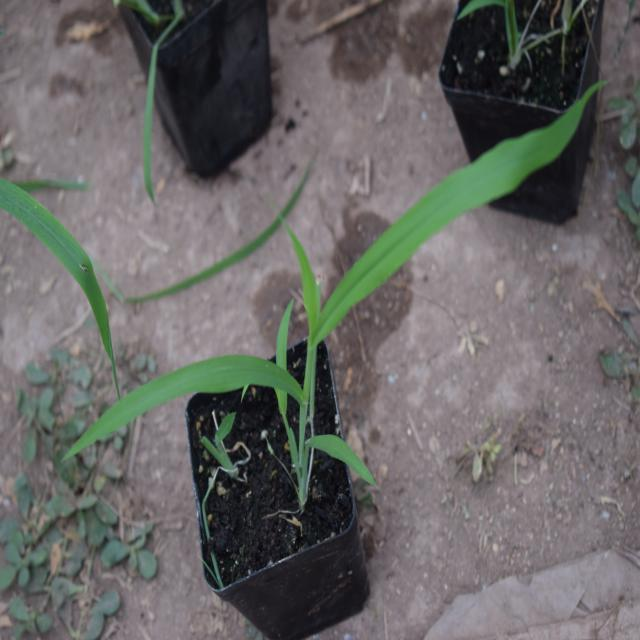crabgrass: (66, 82, 565, 462)
